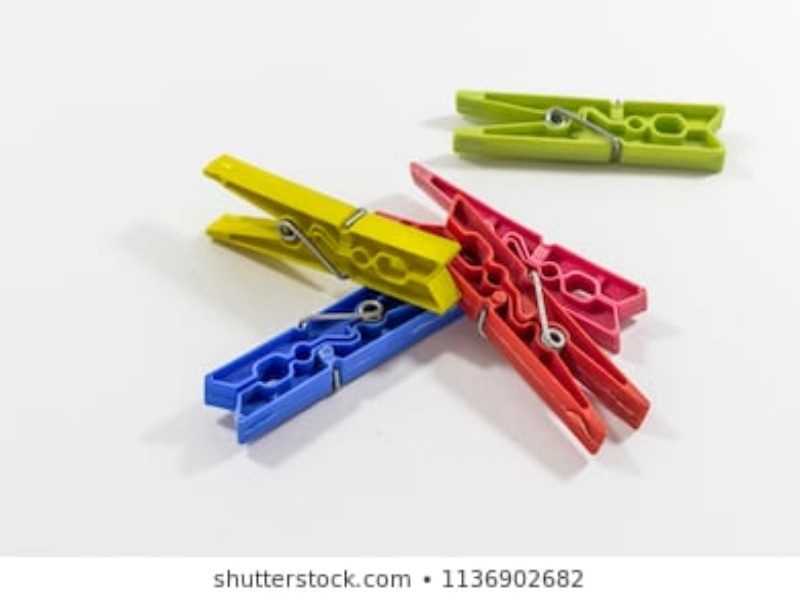plastic-peg: (402, 202, 651, 454), (403, 157, 668, 348), (198, 152, 463, 319), (205, 283, 467, 446), (452, 81, 729, 169)
